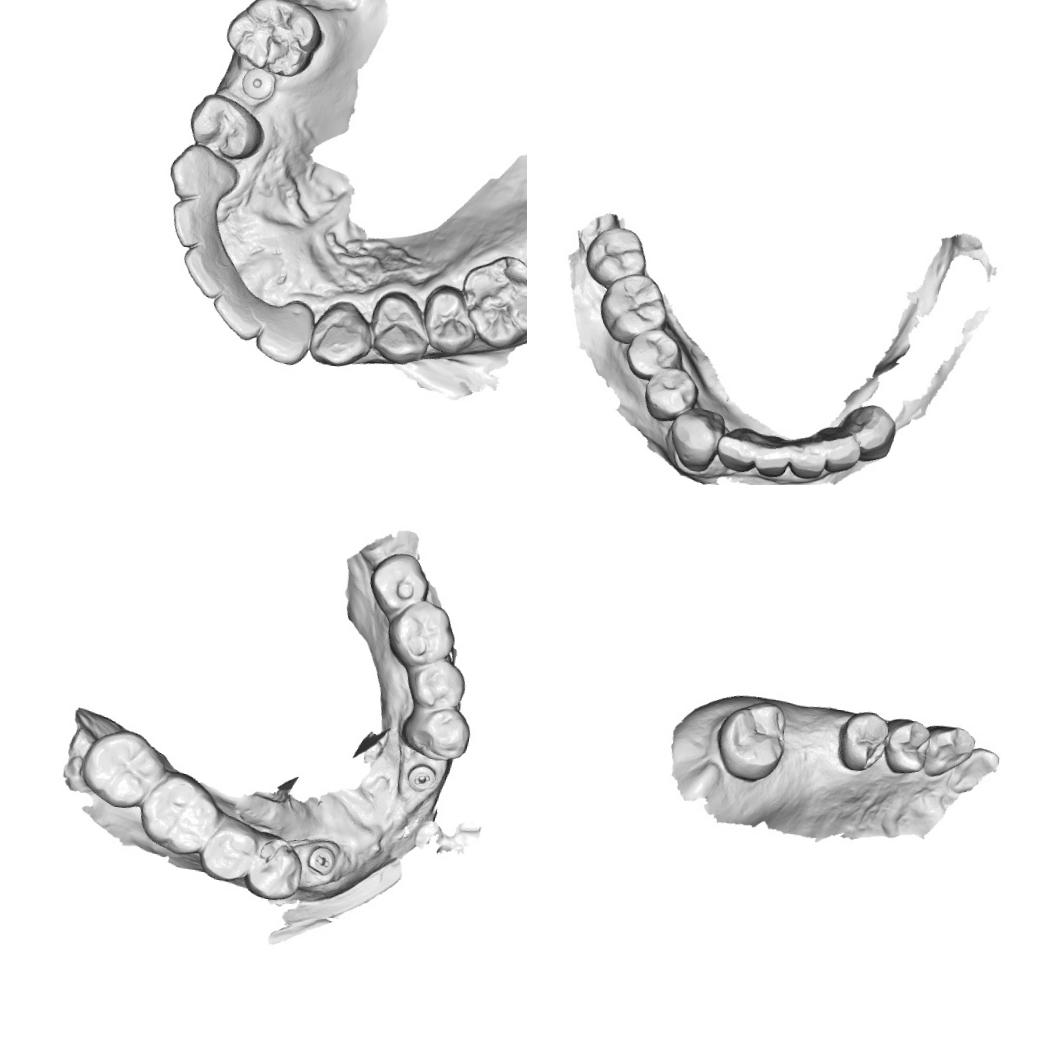canine: (164, 139, 246, 206), (306, 300, 378, 374), (663, 405, 722, 475), (841, 400, 902, 465), (917, 722, 978, 782)
implant: (234, 62, 281, 109)
implant_minus: (405, 762, 438, 794), (306, 844, 337, 878)
incisor: (170, 240, 252, 304), (250, 295, 318, 368), (163, 192, 235, 256), (208, 276, 270, 346), (814, 424, 866, 477), (713, 422, 763, 476), (786, 429, 832, 484), (752, 430, 793, 481)
molar: (220, 0, 331, 83), (76, 723, 171, 814), (451, 249, 527, 357), (134, 767, 223, 858), (708, 693, 792, 787), (593, 266, 674, 350), (383, 596, 459, 673), (578, 219, 654, 294), (365, 549, 434, 622)
premolar: (184, 90, 271, 166), (362, 286, 437, 372), (414, 279, 482, 362), (241, 831, 307, 904), (196, 812, 260, 886), (398, 702, 473, 764), (638, 356, 700, 426), (620, 322, 686, 386), (832, 706, 893, 775), (406, 656, 468, 712), (879, 714, 933, 778)
